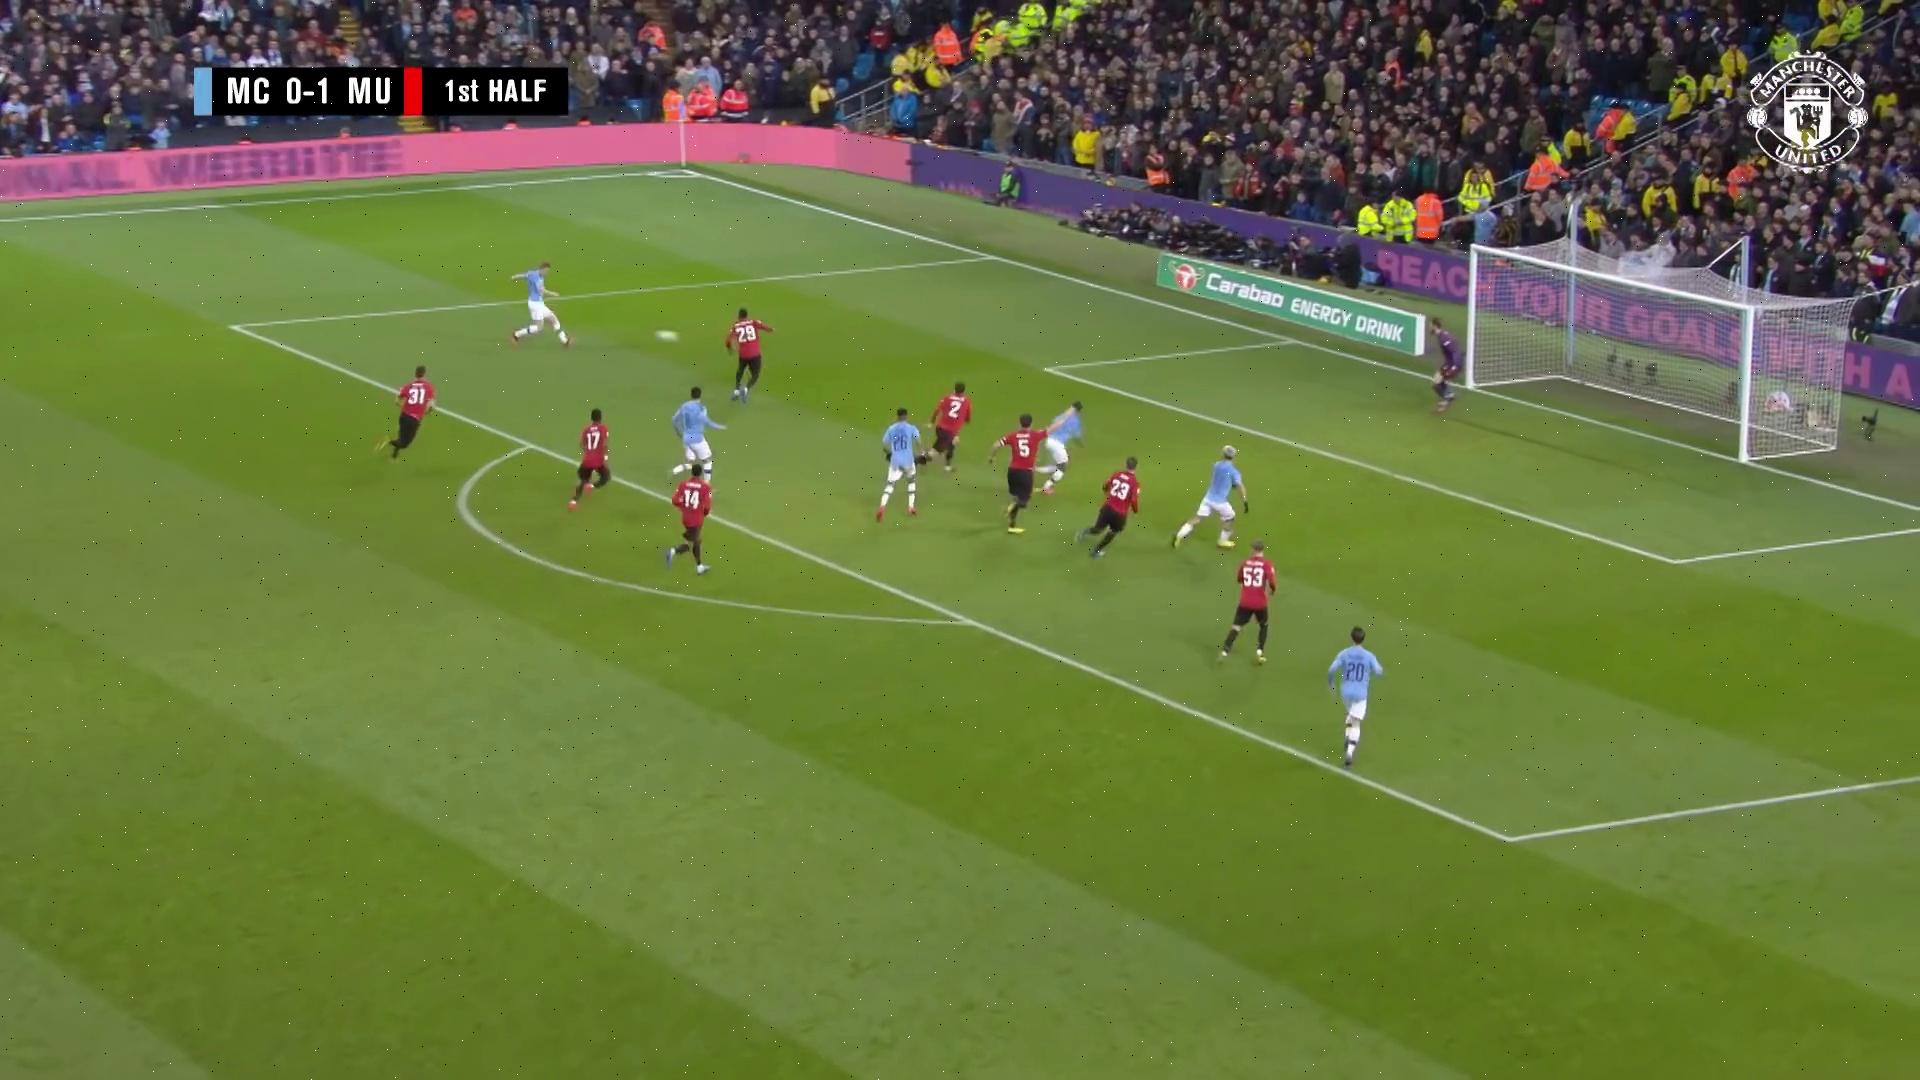ball: (653, 326, 684, 349)
